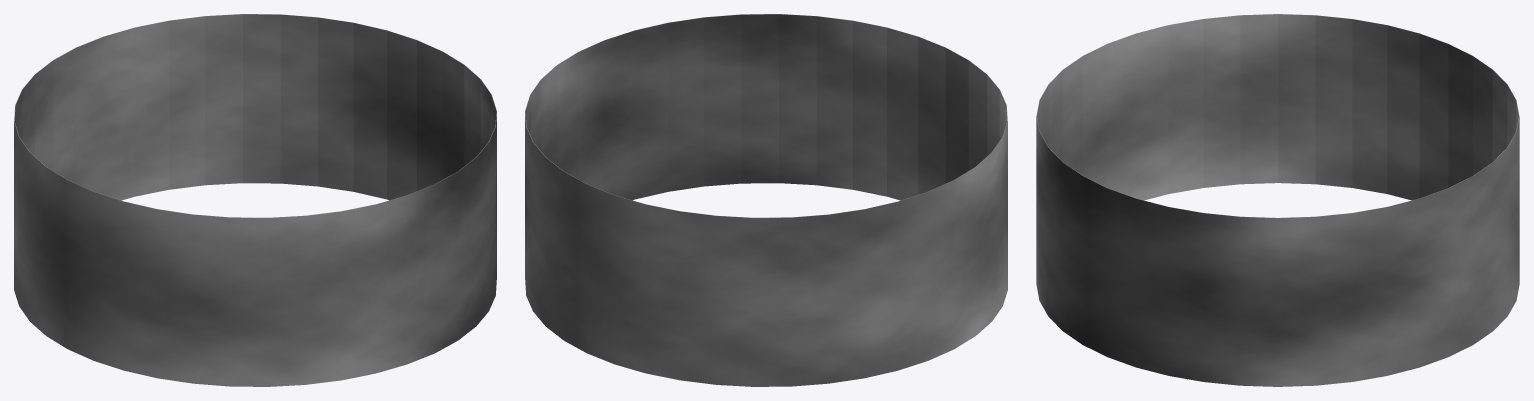
File: Area.obj
The picture shows the model from 3 angles, left to right: view 1: azimuth 30°, elevation 25°; view 2: azimuth 150°, elevation 25°; view 3: azimuth 270°, elevation 25°; orthographic projection.
Parts seen in each view (by area): view 1: Aria; view 2: Aria; view 3: Aria.
Boxes of the visible parts, x1,y1,x2,y2 form: Aria: [14, 14, 496, 386]; Aria: [525, 14, 1007, 386]; Aria: [1036, 14, 1519, 386].
Size of the model in its own units: 2 by 0.7716 by 2.
